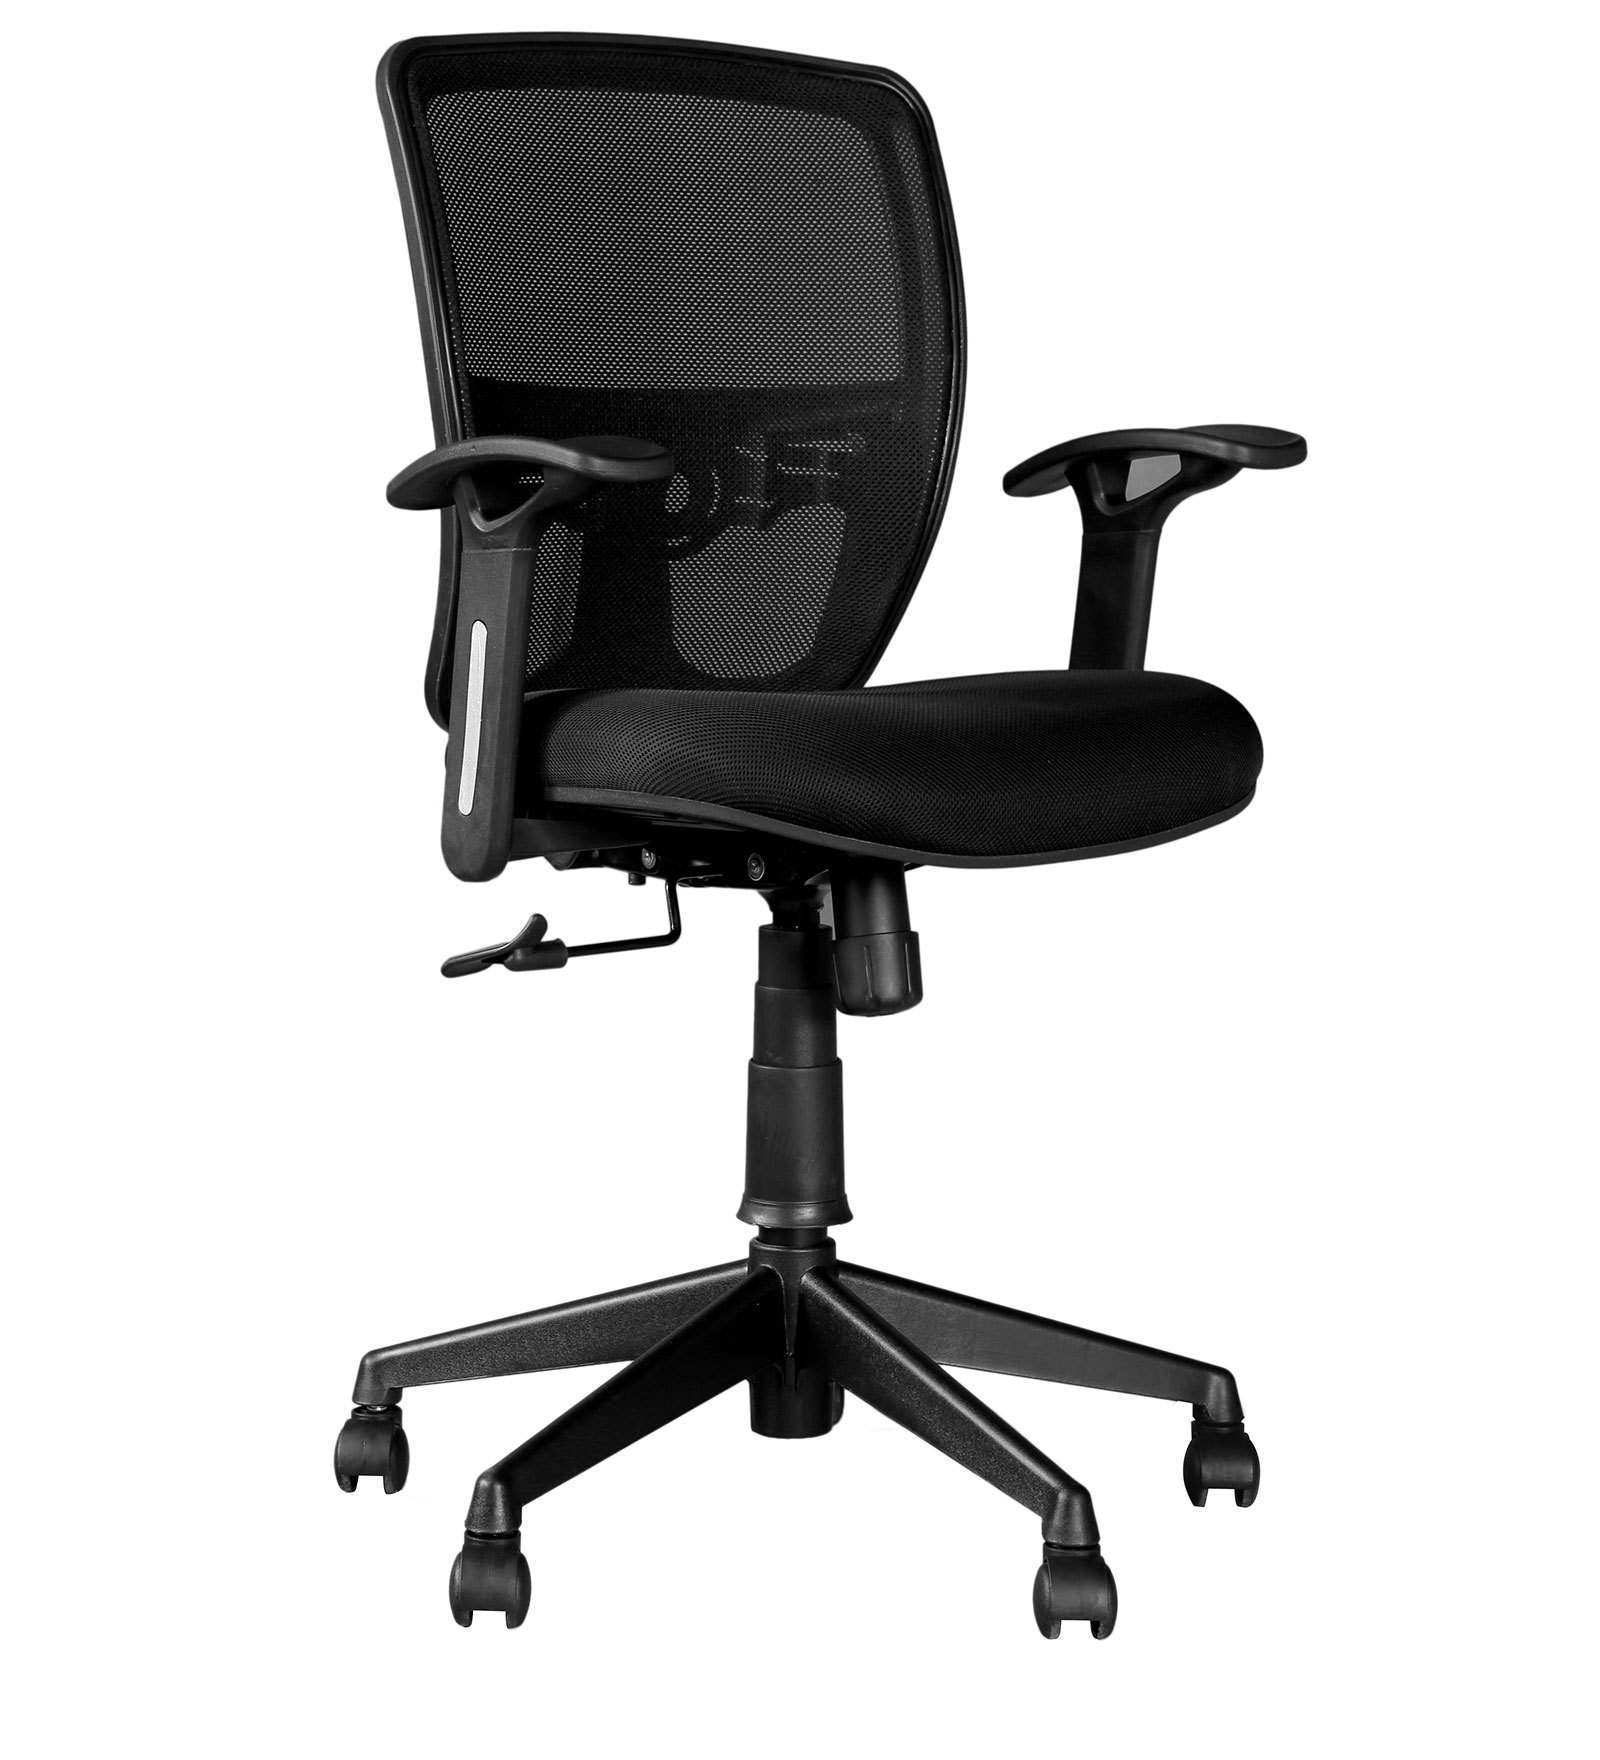Aspire High Back Ergonomic Chair in Black Colour by HomeTown: (279, 26, 1310, 1745)
